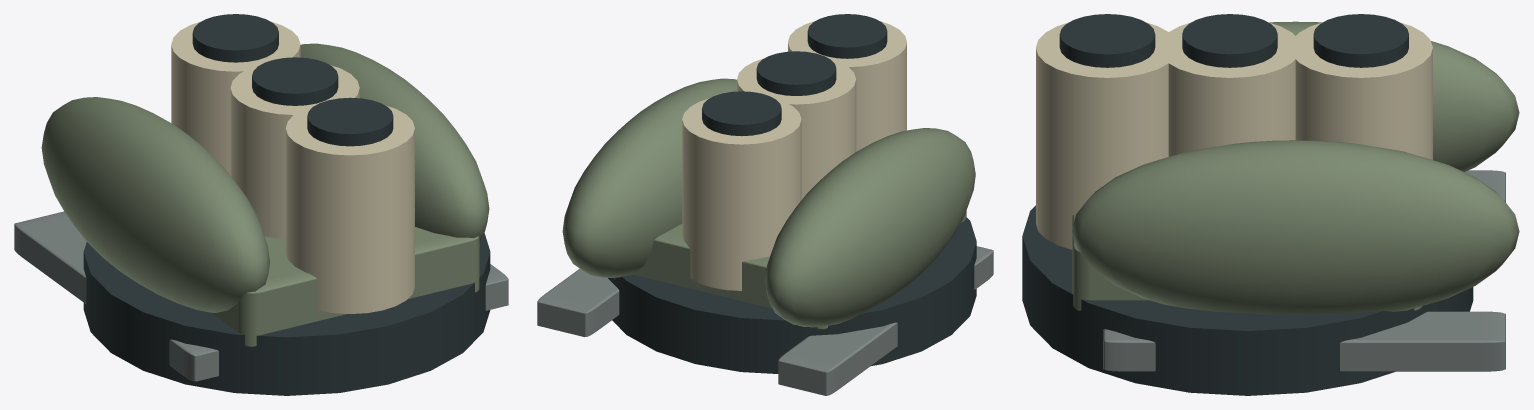
Rendered from warden-machine-brood-ferry-v1.glb.
3 views of the same model, side by side, from view 1: azimuth 30°, elevation 25°; view 2: azimuth 150°, elevation 25°; view 3: azimuth 270°, elevation 25° (orthographic). The views are drawn at different scales.
Parts seen in each view (by area): view 1: Hull paint / Housing (×2), Dark metal / Cylinder (×4), Trim / Cylinder (×3), Hull paint / Plate, Steel / Plate (×2); view 2: Hull paint / Housing (×2), Dark metal / Cylinder (×4), Trim / Cylinder (×3), Steel / Plate (×2), Hull paint / Plate; view 3: Hull paint / Housing (×2), Trim / Cylinder (×3), Dark metal / Cylinder (×4), Steel / Plate (×2), Hull paint / Plate.
Boxes of the visible parts, x1,y1,x2,y2 form: Hull paint / Housing (×2): (41,43,489,312); Dark metal / Cylinder (×4): (83,14,490,395); Trim / Cylinder (×3): (171,21,414,313); Hull paint / Plate: (212,227,479,346); Steel / Plate (×2): (14,211,508,381); Hull paint / Housing (×2): (562,78,975,327); Dark metal / Cylinder (×4): (608,14,976,373); Trim / Cylinder (×3): (682,21,906,290); Steel / Plate (×2): (537,246,993,395); Hull paint / Plate: (613,211,966,329); Hull paint / Housing (×2): (1071,21,1519,314); Trim / Cylinder (×3): (1036,22,1432,249); Dark metal / Cylinder (×4): (1022,14,1473,395); Steel / Plate (×2): (1103,170,1505,371); Hull paint / Plate: (1072,214,1421,310).
Size of the model in its own units: 0.2673 by 0.1743 by 0.2947.
